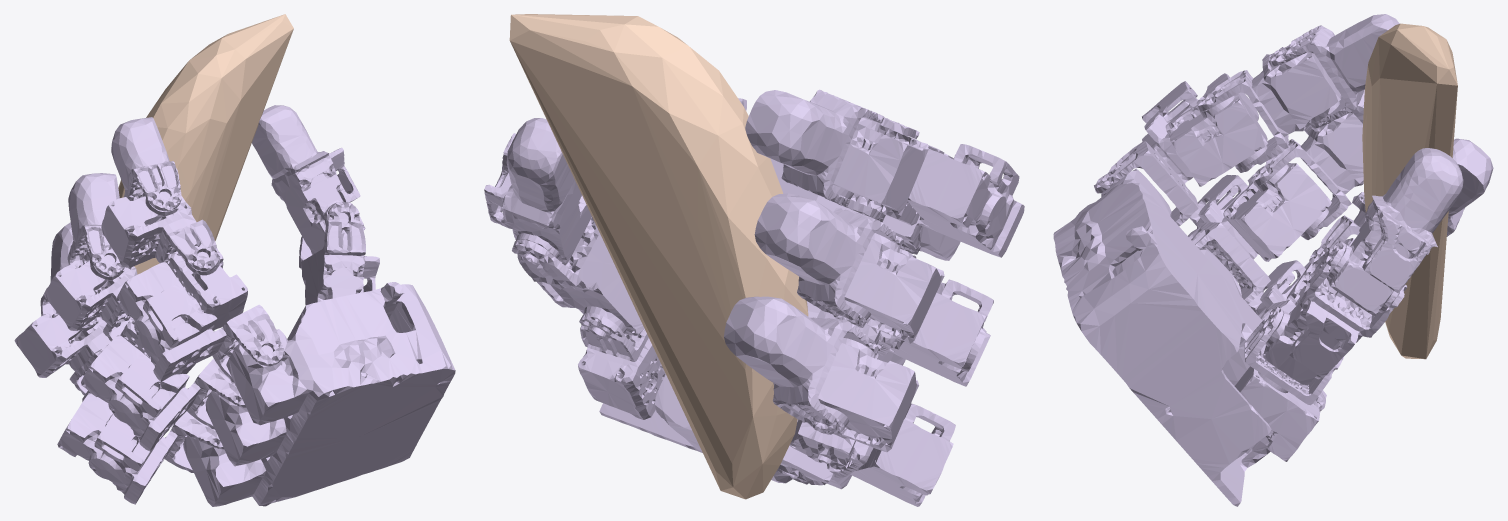
File: 87f4d791d20f1c-closed.glb
3 renders of one model, left to right at view 1: azimuth 30°, elevation 25°; view 2: azimuth 150°, elevation 25°; view 3: azimuth 270°, elevation 25°, orthographic. The views are drawn at different scales.
Parts seen in each view (by area): view 1: LEAP_hand, world; view 2: LEAP_hand, world; view 3: LEAP_hand, world.
Boxes of the visible parts, x1=… form: LEAP_hand: x1=14, y1=105, x2=455, y2=506; world: x1=118, y1=14, x2=293, y2=274; LEAP_hand: x1=484, y1=89, x2=1024, y2=506; world: x1=509, y1=14, x2=808, y2=499; LEAP_hand: x1=1053, y1=14, x2=1493, y2=506; world: x1=1362, y1=23, x2=1457, y2=359.
Size of the model in its own units: 0.1717 by 0.2051 by 0.1844.
